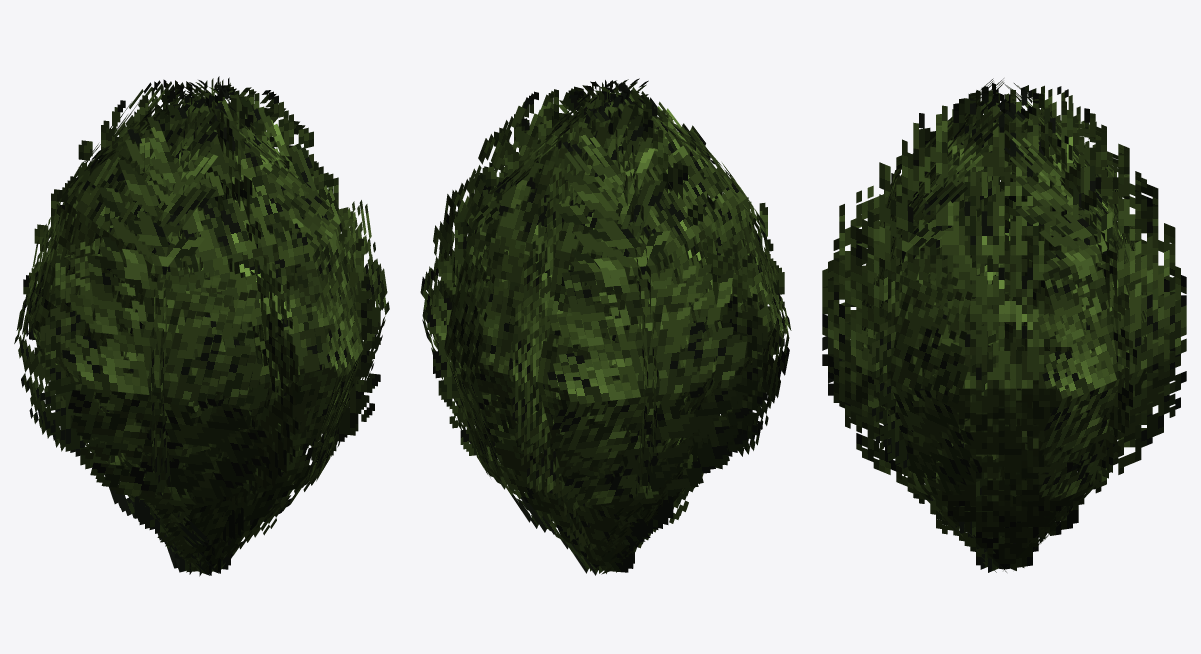
File: bush07_spring.glb
The picture shows the model from 3 angles, left to right: view 1: azimuth 30°, elevation 25°; view 2: azimuth 150°, elevation 25°; view 3: azimuth 270°, elevation 25°; orthographic projection.
Parts seen in each view (by area): view 1: bush07; view 2: bush07; view 3: bush07.
Part boxes in pixels (x1,y1,x2,y2): bush07: (14,76,389,576); bush07: (420,78,791,575); bush07: (822,78,1186,572).
Size of the model in its own units: 1.05 by 1.5 by 1.05.
Materials: 1 (1 with a texture image).
